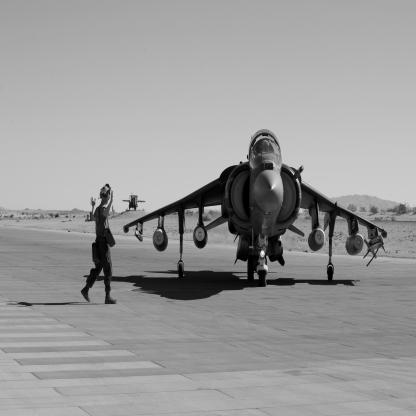AV8B: (124, 130, 389, 288)
